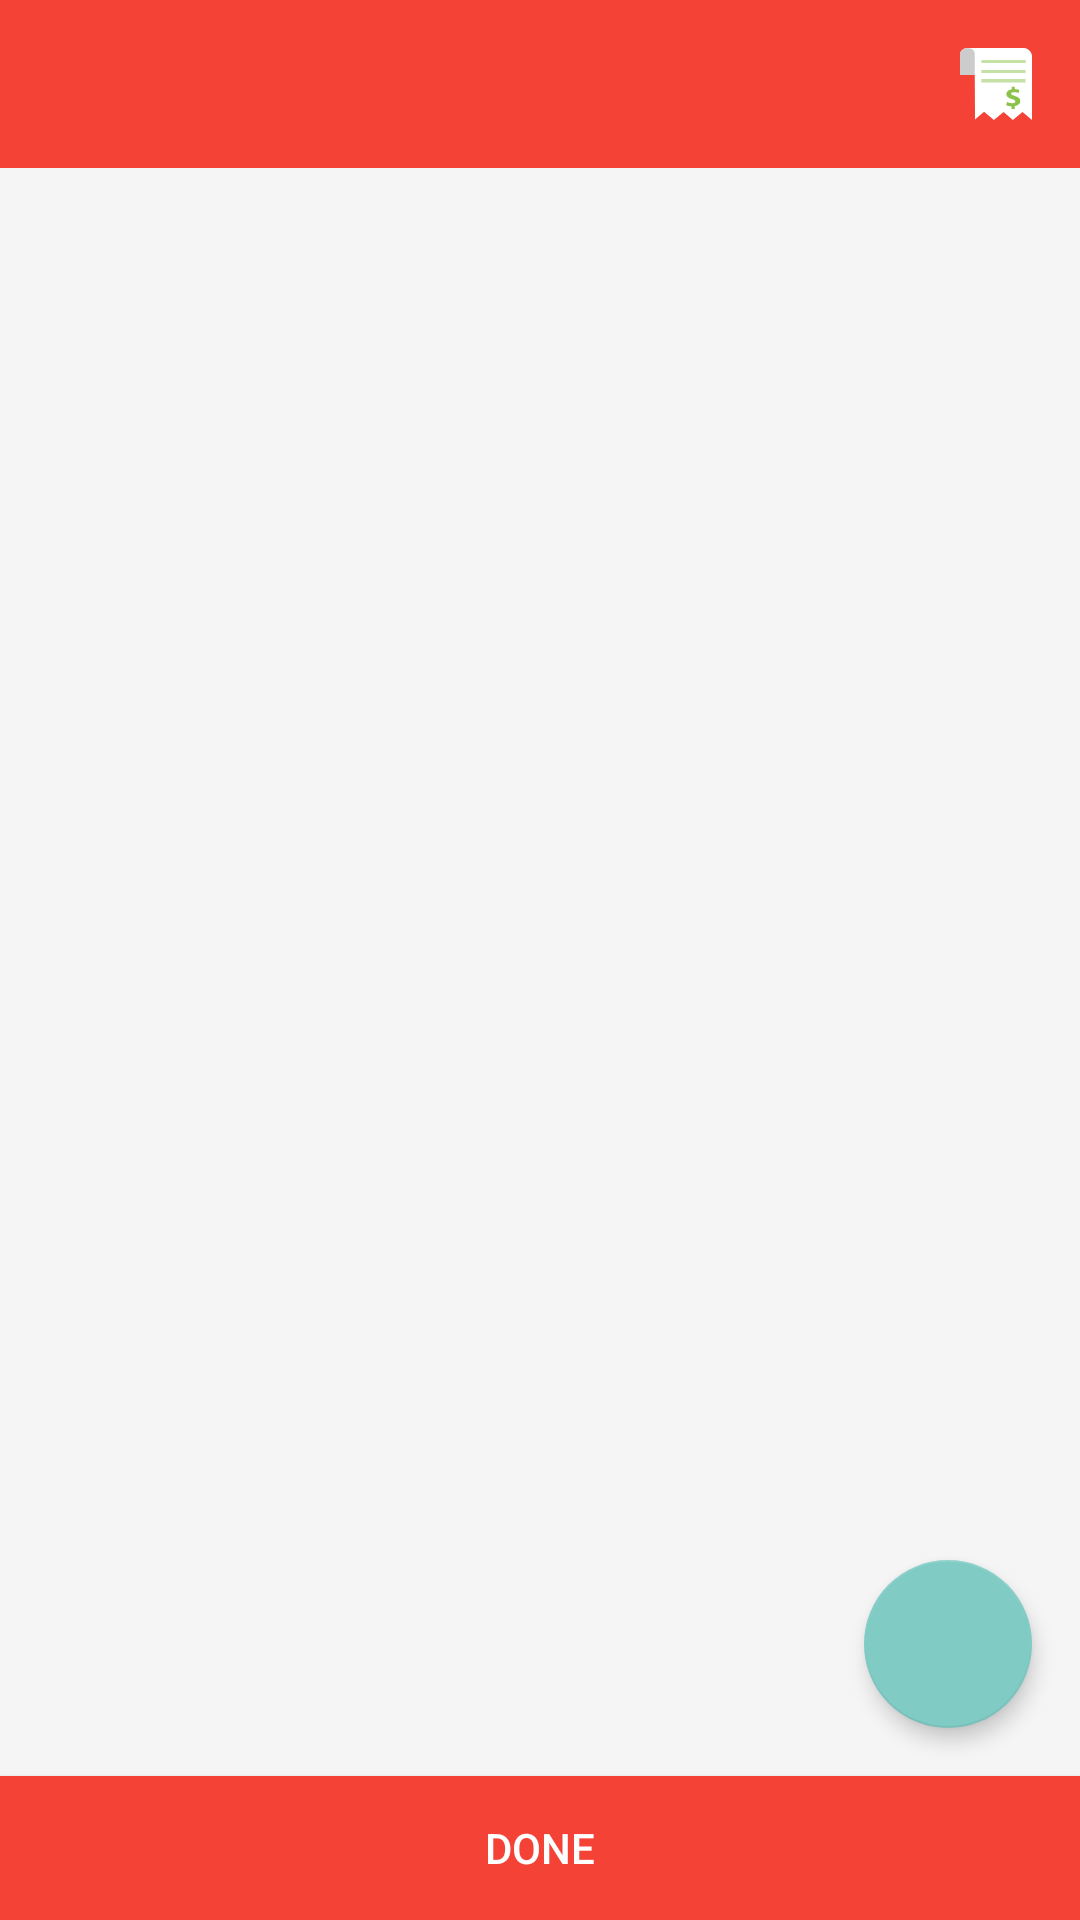

Screen size 1080x1920. Icon name, then its center in pixels as (x=x, y=y):
add receipt: (x=996, y=84)
